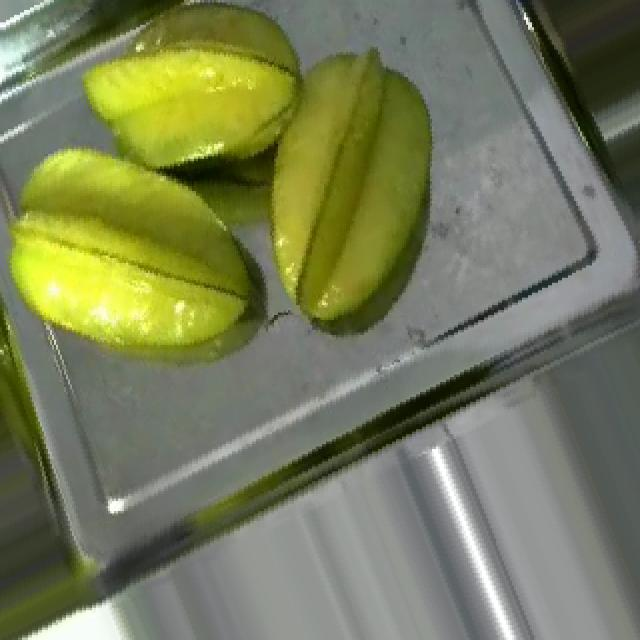fruit: (204, 10, 502, 365), (0, 99, 296, 417), (58, 0, 352, 223)
